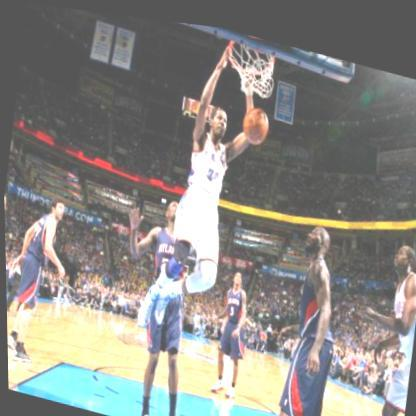basketball: (239, 96, 271, 141)
rim: (222, 30, 279, 94)
